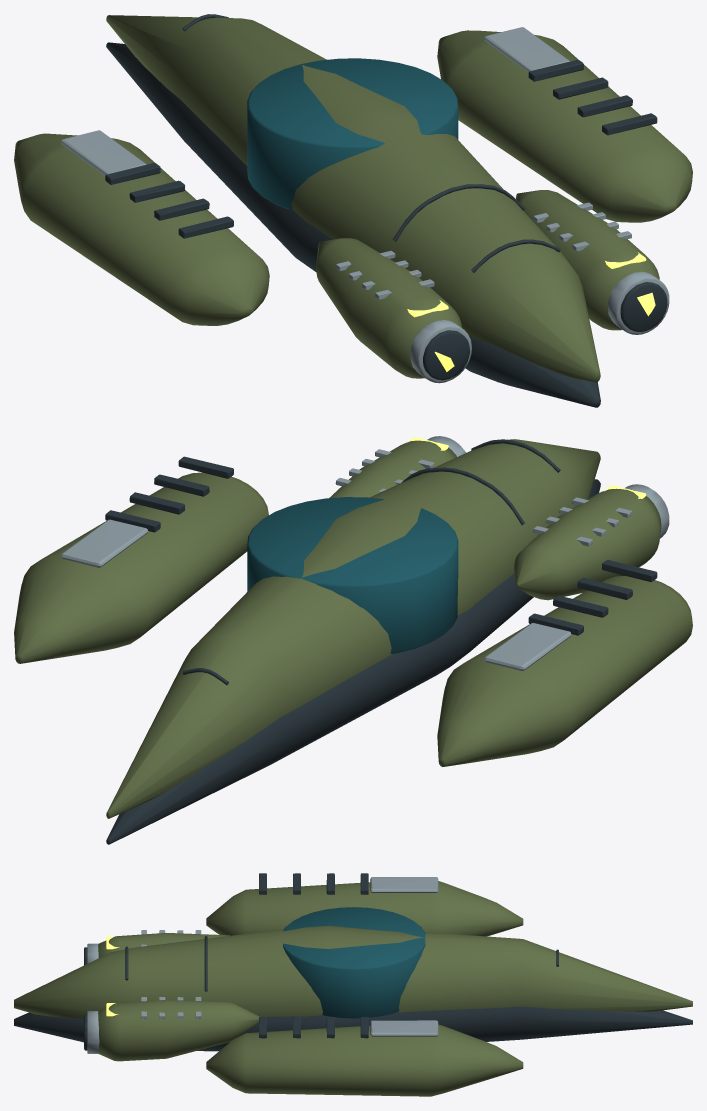
The model's file is tactical-0.glb.
The picture shows the model from 3 angles, top to bottom: view 1: azimuth 30°, elevation 25°; view 2: azimuth 150°, elevation 25°; view 3: azimuth 270°, elevation 25°; orthographic projection. The views are drawn at different scales.
Parts seen in each view (by area): view 1: SM_Hull, SM_Wing_Left, SM_Wing_Right, SM_Engine_Left, SM_Engine_Right; view 2: SM_Hull, SM_Wing_Left, SM_Wing_Right, SM_Engine_Left, SM_Engine_Right; view 3: SM_Hull, SM_Wing_Right, SM_Wing_Left, SM_Engine_Right, SM_Engine_Left.
Part boxes in pixels (left/top/right/bottom): SM_Hull: left=106, top=14, right=600, bottom=407; SM_Wing_Left: left=14, top=130, right=269, bottom=325; SM_Wing_Right: left=437, top=27, right=692, bottom=222; SM_Engine_Left: left=316, top=238, right=471, bottom=383; SM_Engine_Right: left=516, top=190, right=669, bottom=334; SM_Hull: left=106, top=439, right=600, bottom=844; SM_Wing_Left: left=437, top=560, right=692, bottom=766; SM_Wing_Right: left=14, top=456, right=268, bottom=663; SM_Engine_Left: left=514, top=484, right=669, bottom=600; SM_Engine_Right: left=329, top=436, right=466, bottom=498; SM_Hull: left=14, top=907, right=692, bottom=1051; SM_Wing_Right: left=206, top=1016, right=523, bottom=1096; SM_Wing_Left: left=206, top=873, right=523, bottom=936; SM_Engine_Right: left=84, top=997, right=259, bottom=1061; SM_Engine_Left: left=84, top=930, right=230, bottom=965.
Bounding box in the file's own units: 3.9 × 1.08 × 6.
